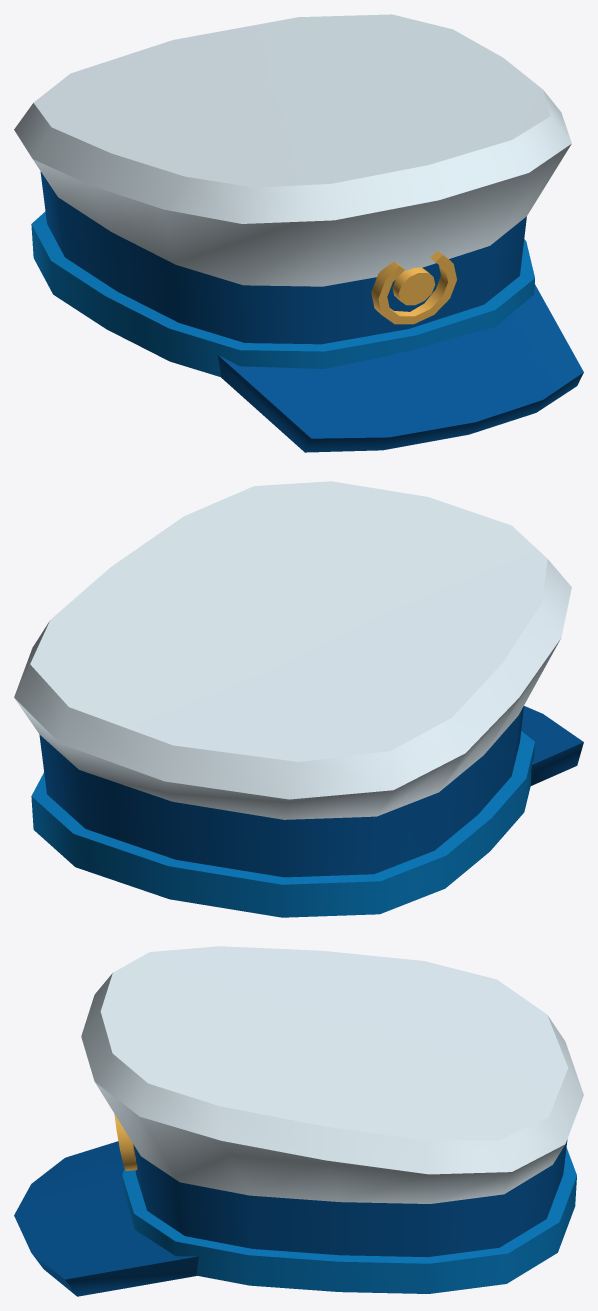
File: Hat_Sailor.fbx
3 views of the same model, one above another, from view 1: azimuth 30°, elevation 25°; view 2: azimuth 150°, elevation 25°; view 3: azimuth 270°, elevation 25° (orthographic). The views are drawn at different scales.
Visible parts, largest first — view 1: Hat_Sailor; view 2: Hat_Sailor; view 3: Hat_Sailor.
Boxes of the visible parts, x1,y1,x2,y2 form: Hat_Sailor: (14, 14, 583, 452); Hat_Sailor: (14, 481, 583, 917); Hat_Sailor: (14, 946, 583, 1296).
Size of the model in its own units: 93.85 by 50.71 by 117.
